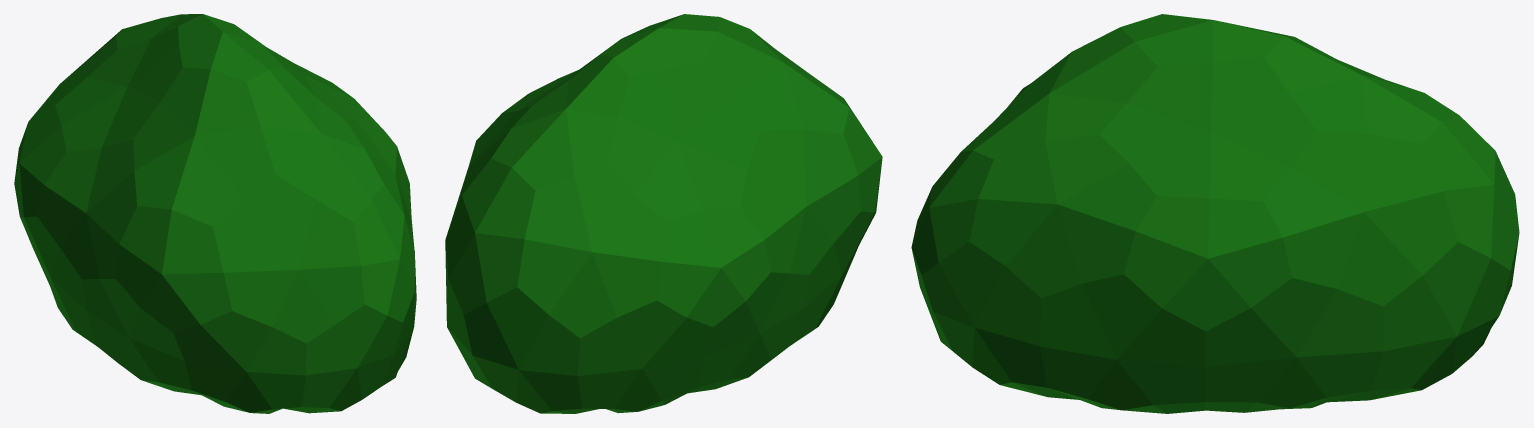
The model's file is bush.fbx.
The picture shows the model from 3 angles, left to right: view 1: azimuth 30°, elevation 25°; view 2: azimuth 150°, elevation 25°; view 3: azimuth 270°, elevation 25°; orthographic projection. The views are drawn at different scales.
Visible parts, largest first — view 1: Icosphere; view 2: Icosphere; view 3: Icosphere.
Boxes of the visible parts, x1,y1,x2,y2 form: Icosphere: (14,14,416,413); Icosphere: (445,14,882,413); Icosphere: (911,14,1519,413).
Bounding box in the file's own units: 310 × 300 × 471.
